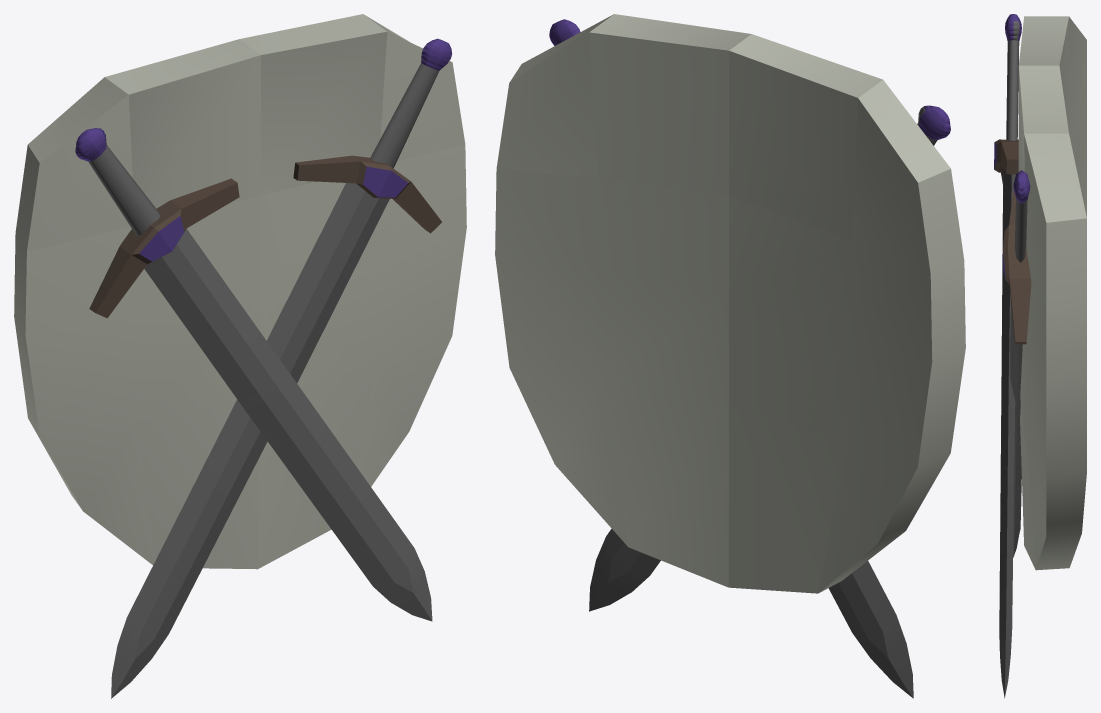
Rendered from Comb_6.fbx.
The picture shows the model from 3 angles, left to right: view 1: azimuth 30°, elevation 25°; view 2: azimuth 150°, elevation 25°; view 3: azimuth 270°, elevation 25°; orthographic projection. The views are drawn at different scales.
Parts seen in each view (by area): view 1: Shield4.004, Sword3.001; view 2: Shield4.004, Sword3.001; view 3: Shield4.004, Sword3.001.
Boxes of the visible parts, x1,y1,x2,y2 form: Shield4.004: (14, 14, 466, 569); Sword3.001: (75, 38, 451, 698); Shield4.004: (495, 14, 965, 593); Sword3.001: (549, 19, 950, 698); Shield4.004: (1018, 16, 1086, 570); Sword3.001: (994, 14, 1031, 698).
Size of the model in its own units: 58.12 by 76.04 by 11.4.
